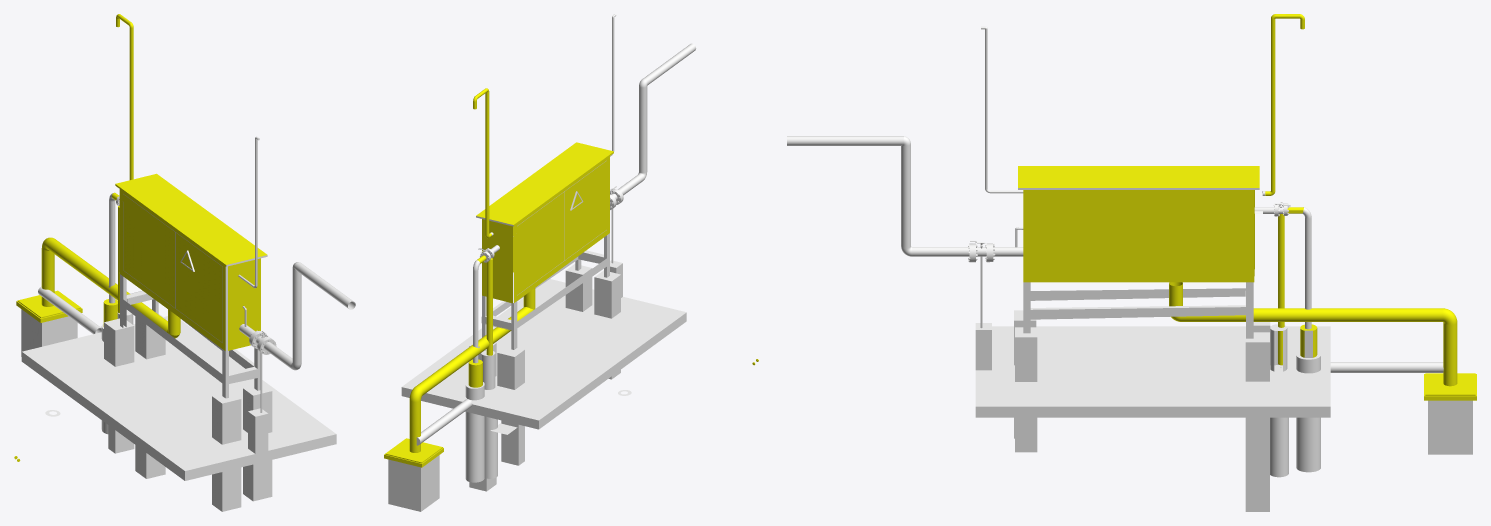
The picture shows the model from 3 angles, left to right: view 1: azimuth 30°, elevation 25°; view 2: azimuth 150°, elevation 25°; view 3: azimuth 270°, elevation 25°; orthographic projection. The views are drawn at different scales.
Visible parts, largest first — view 1: Model, Group45, Group90, Group89; view 2: Model, Group45, Group89, Group91, Group90, Group95; view 3: Model, Group90, Group45, Group91.
Part boxes in pixels (x1,y1,x2,y2): Model: [16, 136, 355, 511]; Group45: [116, 14, 133, 179]; Group90: [38, 286, 101, 334]; Group89: [45, 274, 158, 416]; Model: [384, 14, 696, 511]; Group45: [473, 88, 491, 238]; Group89: [482, 295, 631, 395]; Group91: [486, 258, 492, 355]; Group90: [416, 399, 472, 445]; Group95: [481, 350, 495, 389]; Model: [787, 26, 1476, 511]; Group90: [1330, 362, 1443, 372]; Group45: [1265, 14, 1304, 195]; Group91: [1278, 214, 1284, 365].
Size of the model in its own units: 163 by 252 by 323.
